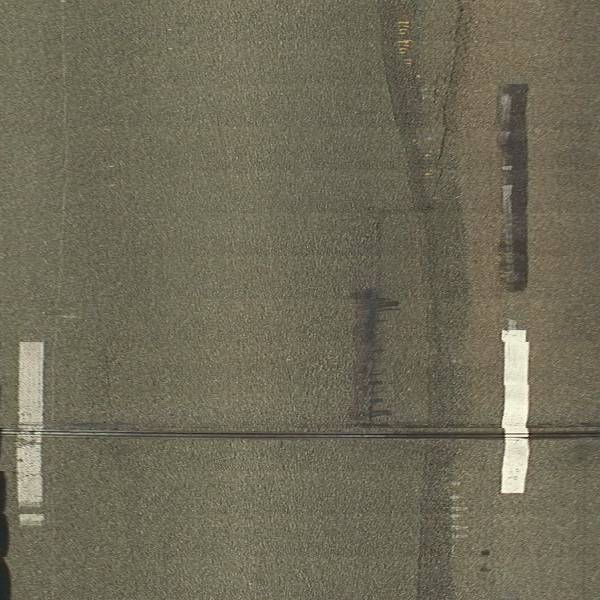road_damage: (46, 423, 503, 444), (432, 1, 476, 194), (346, 283, 402, 428), (412, 444, 437, 600), (93, 349, 126, 422)
